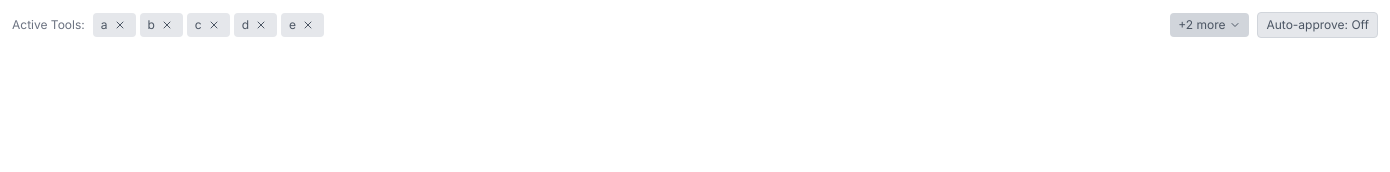
Test case: EnabledToolsIndicator (#870 single-row strip) › caps visible pills at the compact threshold and expands on demand
Expected: the text "a" is shown, [101,17,108,33]
Expected: the text "b" is shown, [148,17,155,33]
Click the button "+2 more": (1210, 25) [1170,13,1250,37]
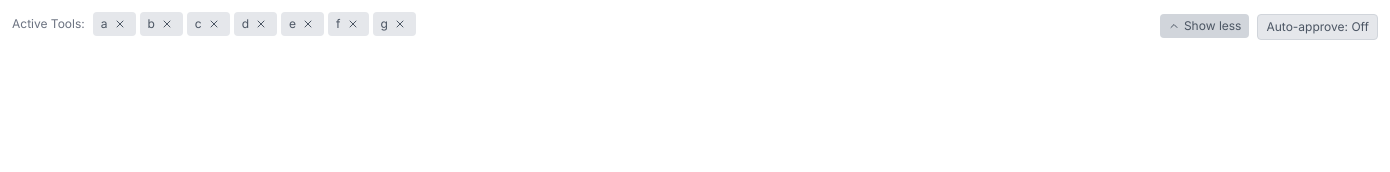
Expected: the text "f" is shown, [336,16,341,32]
Expected: the text "g" is shown, [380,16,388,32]
Expected: the button "Show less" is shown, [1160,14,1249,38]
